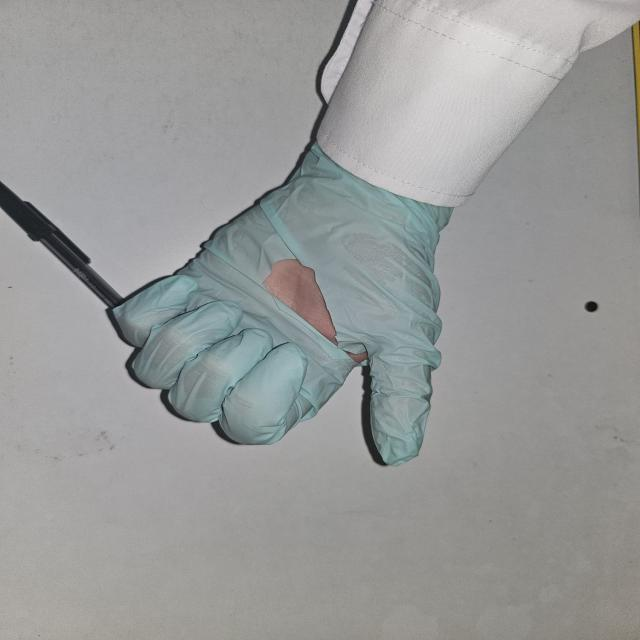gloves_damaged: (110, 158, 461, 465)
